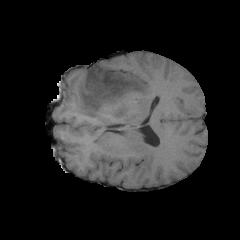glioma: (69, 63, 154, 123)
